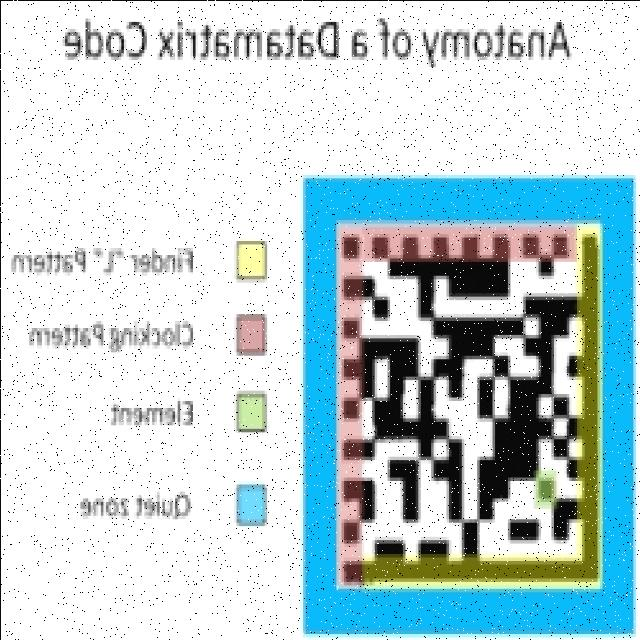datamatrix: (330, 216, 607, 594)
